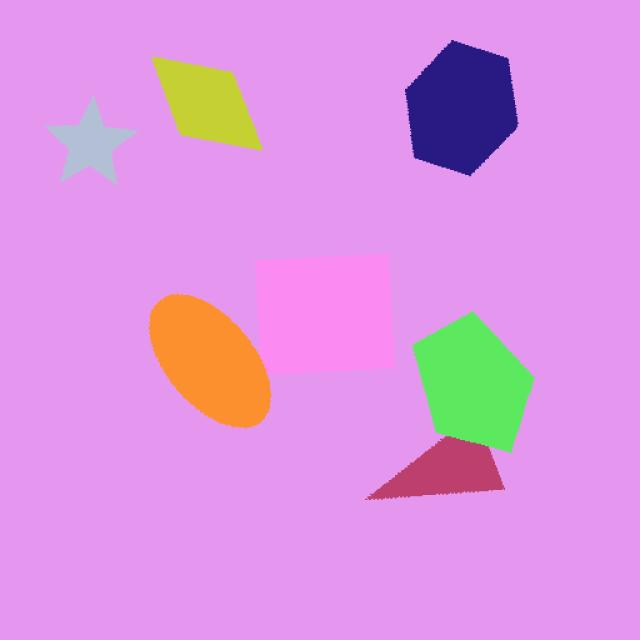Hexagon: (403, 25, 522, 187)
Kite: (142, 47, 280, 163)
Oval: (132, 284, 285, 434)
Pentagon: (407, 299, 542, 458)
Rectangle: (229, 248, 410, 378)
Star: (57, 100, 142, 194)
